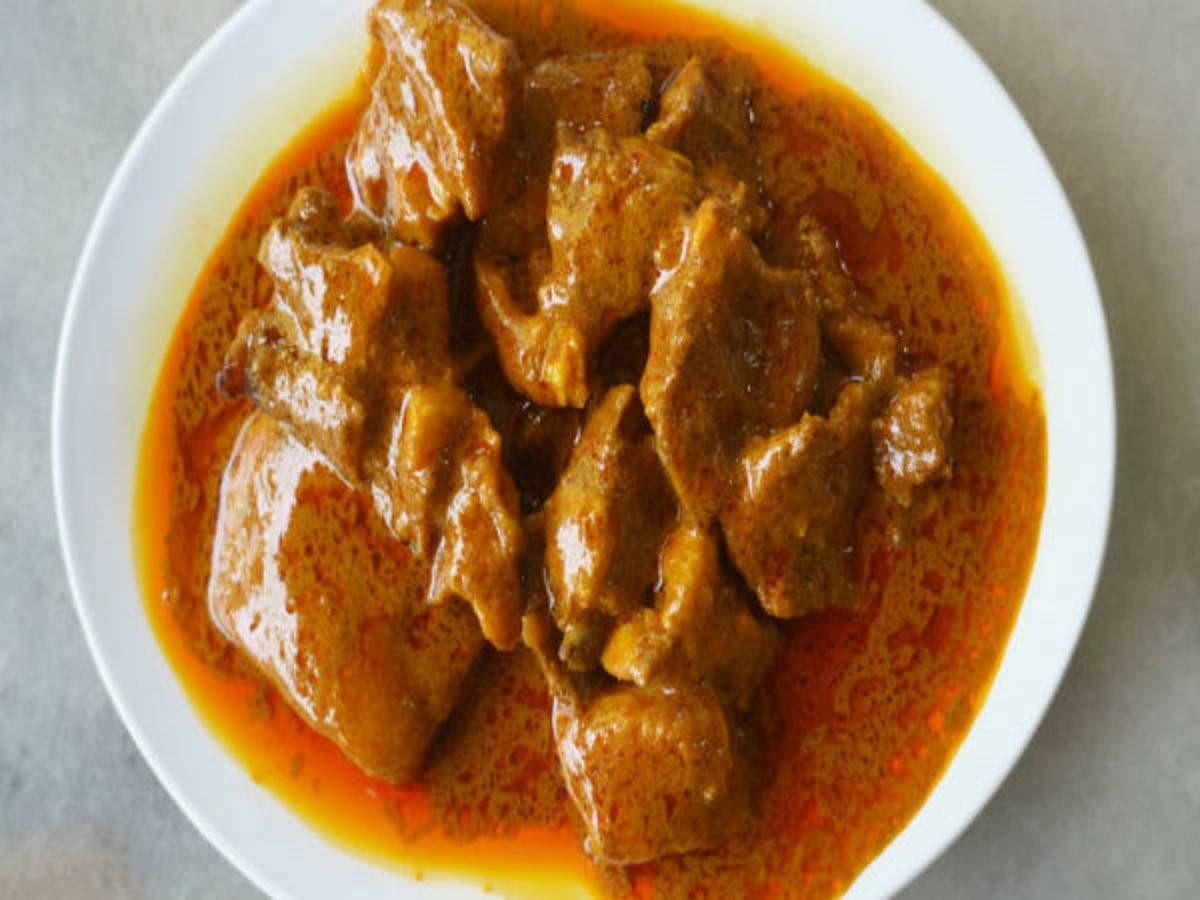MuttonCurry: (133, 0, 1044, 900)
